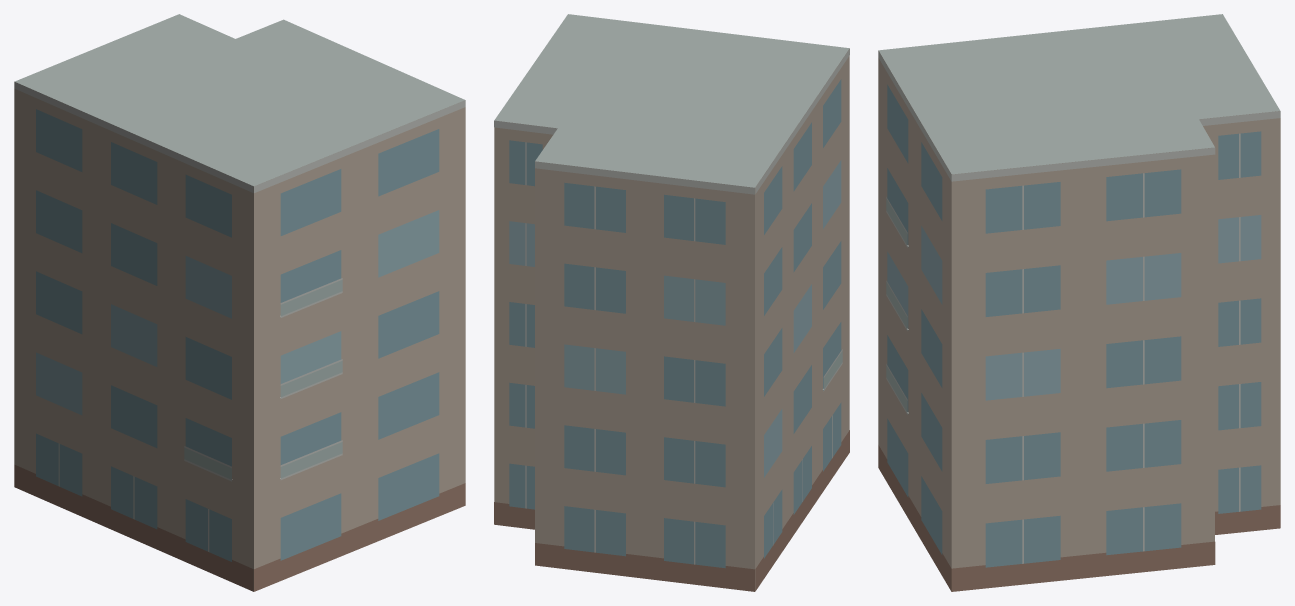
The model's file is survey-upis-32679138.glb.
3 renders of one model, left to right at view 1: azimuth 30°, elevation 25°; view 2: azimuth 150°, elevation 25°; view 3: azimuth 270°, elevation 25°, orthographic. The views are drawn at different scales.
Visible parts, largest first — view 1: survey-upis-32679138.tmp; view 2: survey-upis-32679138.tmp; view 3: survey-upis-32679138.tmp.
Boxes of the visible parts, x1=… form: survey-upis-32679138.tmp: x1=14, y1=14, x2=465, y2=591; survey-upis-32679138.tmp: x1=494, y1=14, x2=849, y2=591; survey-upis-32679138.tmp: x1=878, y1=14, x2=1280, y2=591.
Size of the model in its own units: 11.72 by 14.2 by 12.41.
